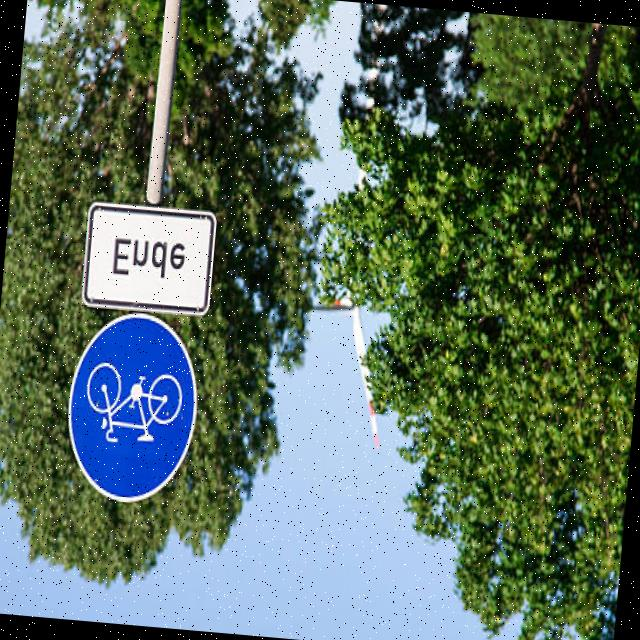bicycle: (50, 304, 204, 526)
